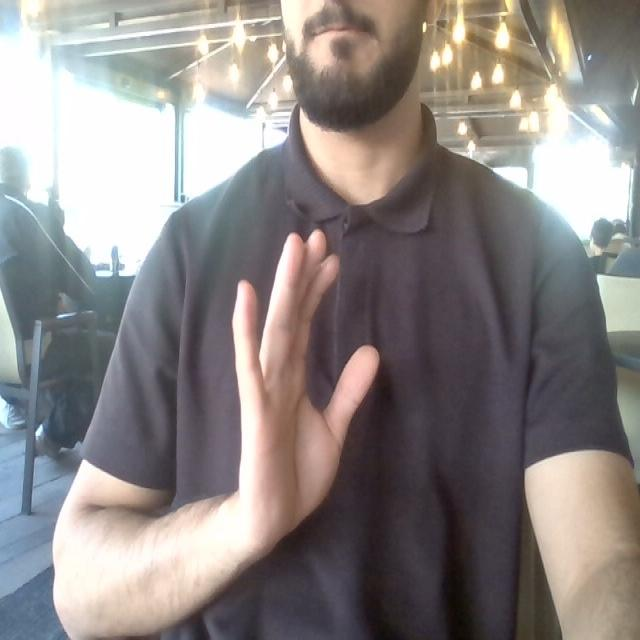Hand: (233, 231, 378, 550)
